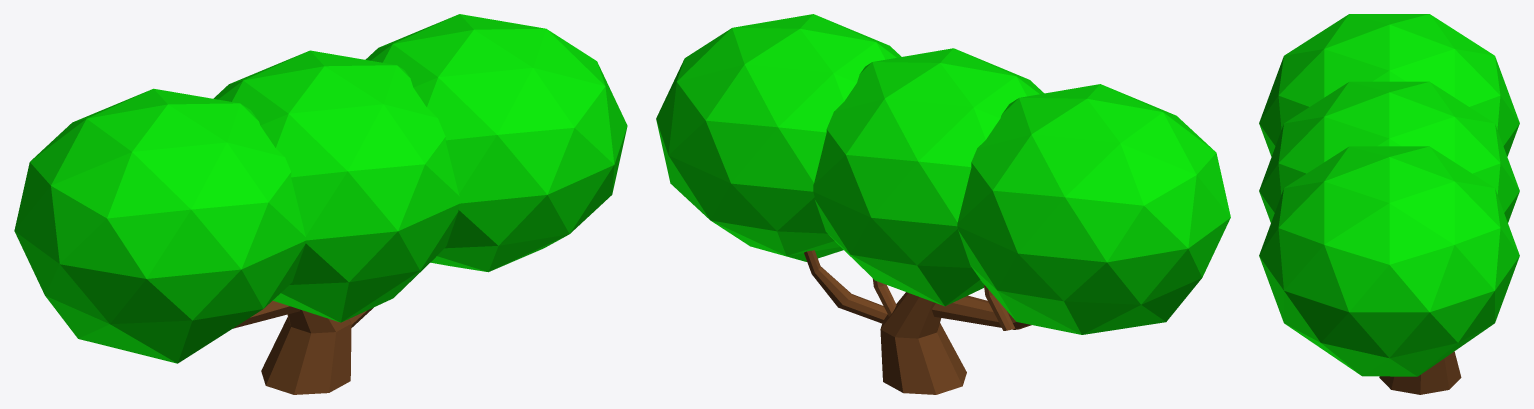
The model's file is Bush.003.glb.
3 views of the same model, side by side, from view 1: azimuth 30°, elevation 25°; view 2: azimuth 150°, elevation 25°; view 3: azimuth 270°, elevation 25° (orthographic). The views are drawn at different scales.
Parts seen in each view (by area): view 1: Bush.001; view 2: Bush.001; view 3: Bush.001.
Part boxes in pixels (x1,y1,x2,y2): Bush.001: (14, 14, 627, 394); Bush.001: (656, 14, 1230, 394); Bush.001: (1259, 14, 1519, 394).
Bounding box in the file's own units: 11.69 × 6.34 × 5.25.
